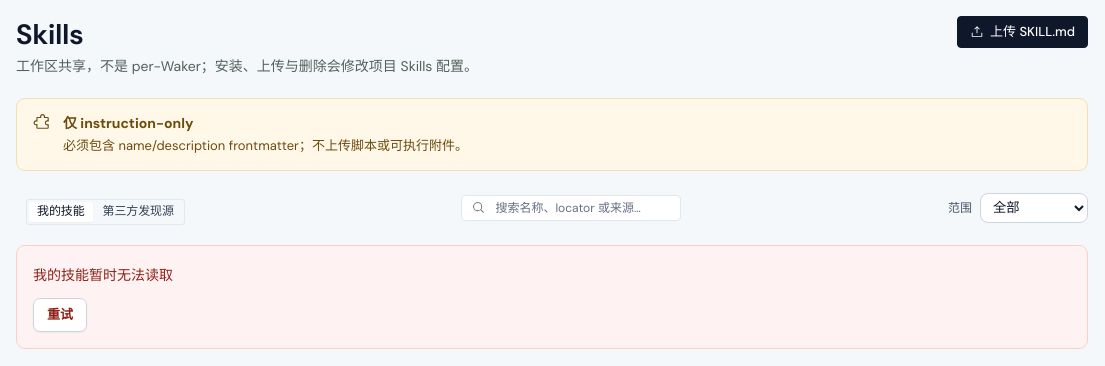
Scenario: SkillsView › 网络中断时本地化错误并可重试恢复技能列表
The width and height of the screenshot is (1105, 366).
Click the button "重试": (60, 314) [33,298,87,332]
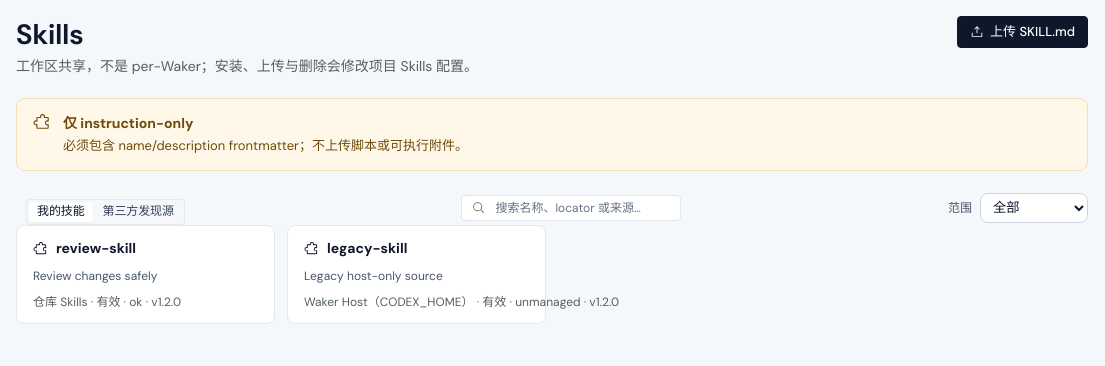
Expected: the button "review-skill" is shown, [16,224,275,324]
